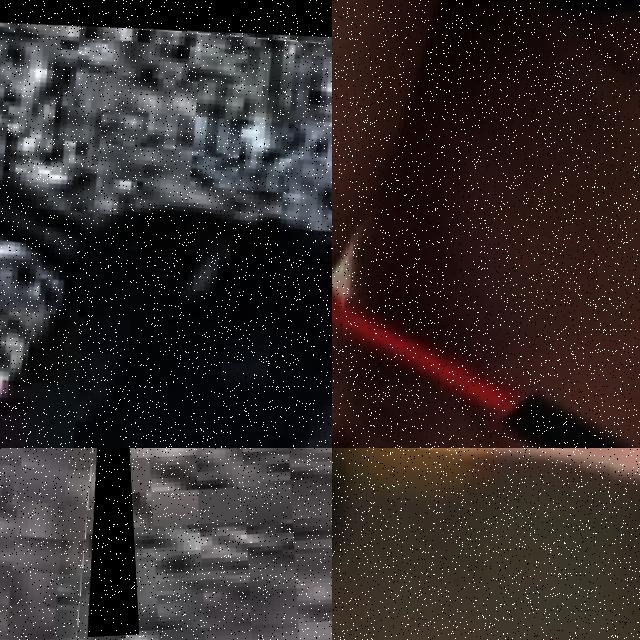0: (0, 0, 332, 448), (0, 448, 139, 640)
drone: (332, 0, 640, 448), (332, 448, 640, 640)
